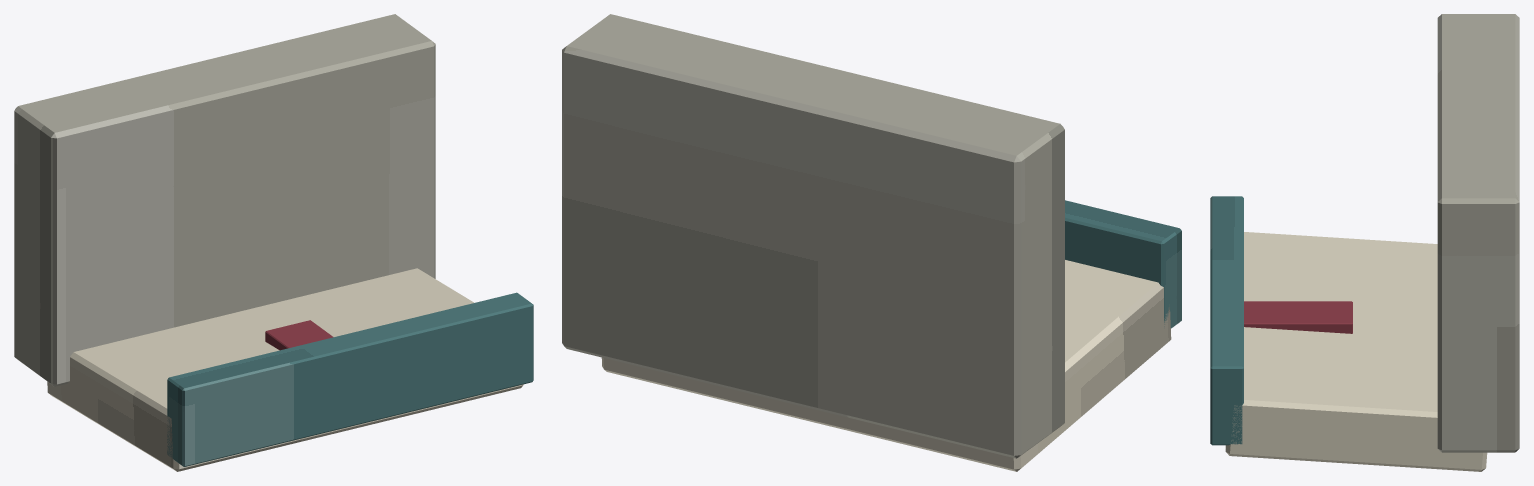
File: public_baby_change_station.glb
3 renders of one model, left to right at view 1: azimuth 30°, elevation 25°; view 2: azimuth 150°, elevation 25°; view 3: azimuth 270°, elevation 25°, orthographic. The views are drawn at different scales.
Parts seen in each view (by area): view 1: ChangingStationBack, ChangingLip, ChangingTable, SafetyStrap; view 2: ChangingStationBack, ChangingTable, ChangingLip; view 3: ChangingTable, ChangingStationBack, ChangingLip, SafetyStrap.
Boxes of the visible parts, <box> form: ChangingStationBack: <box>14,14,435,386</box>; ChangingLip: <box>167,292,533,466</box>; ChangingTable: <box>47,268,523,471</box>; SafetyStrap: <box>265,320,333,350</box>; ChangingStationBack: <box>562,14,1064,458</box>; ChangingTable: <box>601,260,1171,471</box>; ChangingLip: <box>1065,200,1181,328</box>; ChangingTable: <box>1225,232,1487,471</box>; ChangingStationBack: <box>1437,14,1519,452</box>; ChangingLip: <box>1210,196,1243,445</box>; SafetyStrap: <box>1244,301,1352,333</box>.
Bounding box in the file's own units: 0.92 × 0.643 × 0.64.
1 material, 1 textured.
